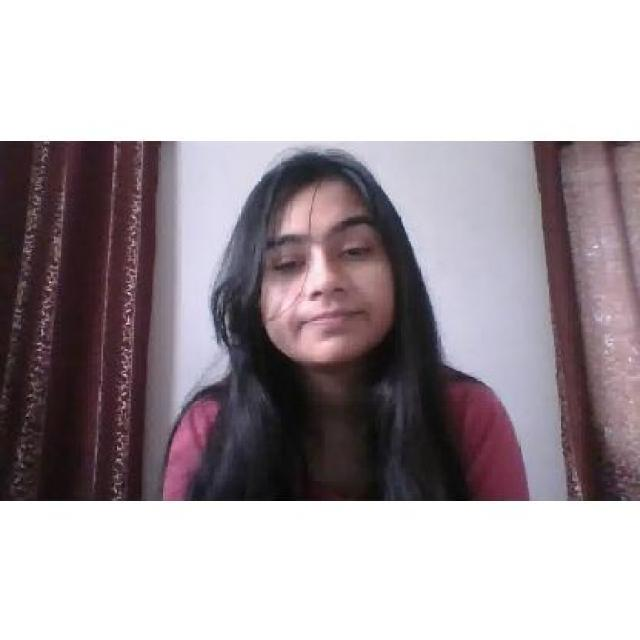attentif: (256, 153, 393, 361)
